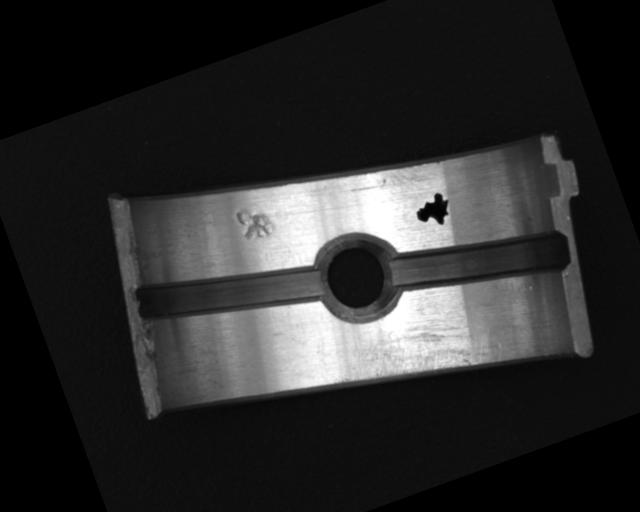blot: (410, 189, 458, 232)
bruise: (232, 199, 279, 245)
gap: (131, 226, 330, 360), (383, 200, 576, 325)
hole: (305, 226, 413, 334)
scratch: (329, 290, 509, 416)
